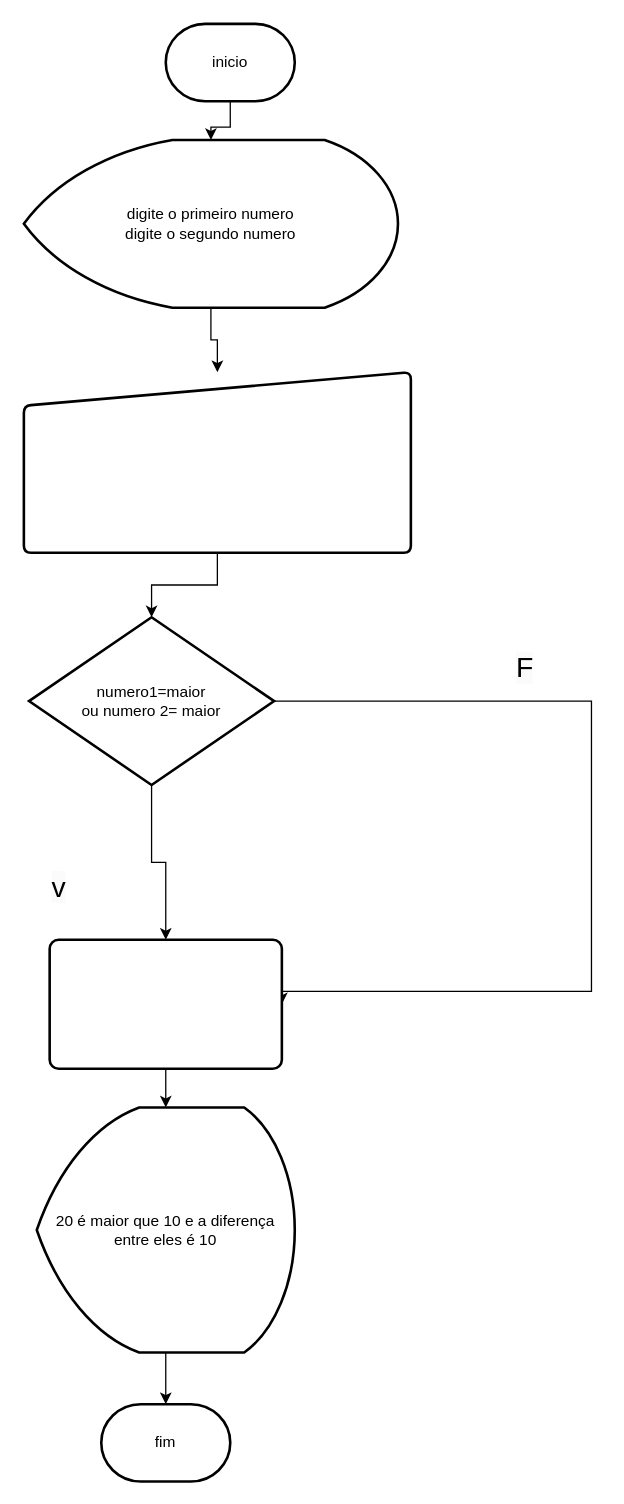
The diagram is 624 pixels wide and 1504 high, and some of its shapes have lost their labels. Here are the shapes that lost their labels. From the top down, the centre of each, then its label:
At point 217,461: "numero1 numero2".
At point 165,1003: "numero1=10 numero2=20 20-10".
